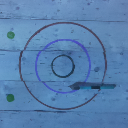Axe Tip: (68, 84, 81, 86)
